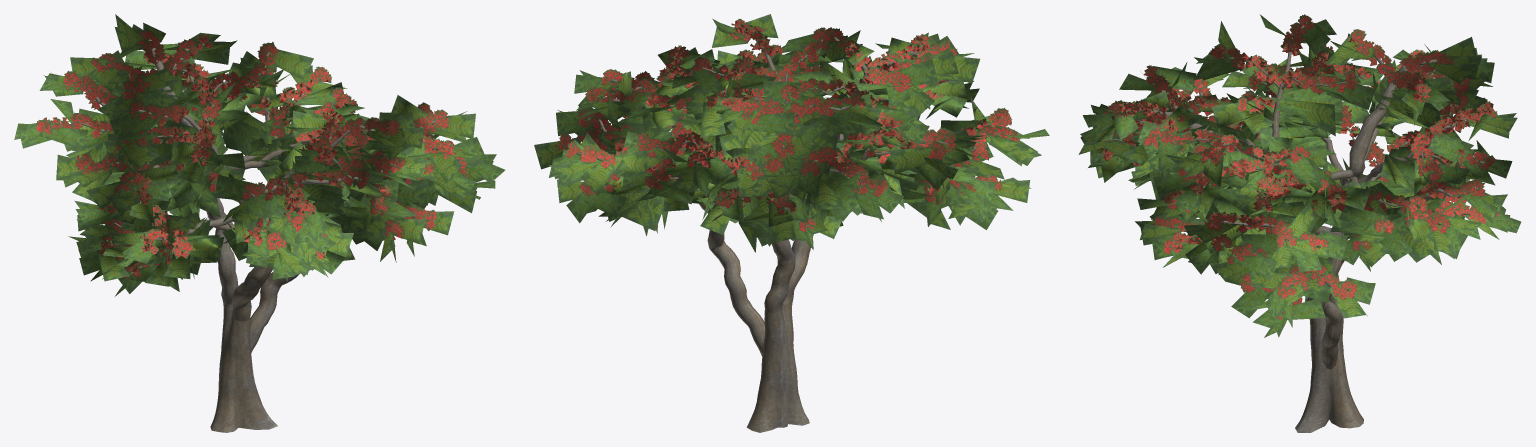
Rendered from SM_tree_delonix_01.fbx.
3 renders of one model, left to right at view 1: azimuth 30°, elevation 25°; view 2: azimuth 150°, elevation 25°; view 3: azimuth 270°, elevation 25°, orthographic. The views are drawn at different scales.
Parts seen in each view (by area): view 1: SM_tree_delonix_01_LOD0; view 2: SM_tree_delonix_01_LOD0; view 3: SM_tree_delonix_01_LOD0.
Part boxes in pixels (left/top/right/bottom): SM_tree_delonix_01_LOD0: left=14, top=14, right=505, bottom=432; SM_tree_delonix_01_LOD0: left=534, top=14, right=1049, bottom=432; SM_tree_delonix_01_LOD0: left=1078, top=14, right=1521, bottom=432.
Bounding box in the file's own units: 985 × 881 × 791.
2 materials, 2 textured.
